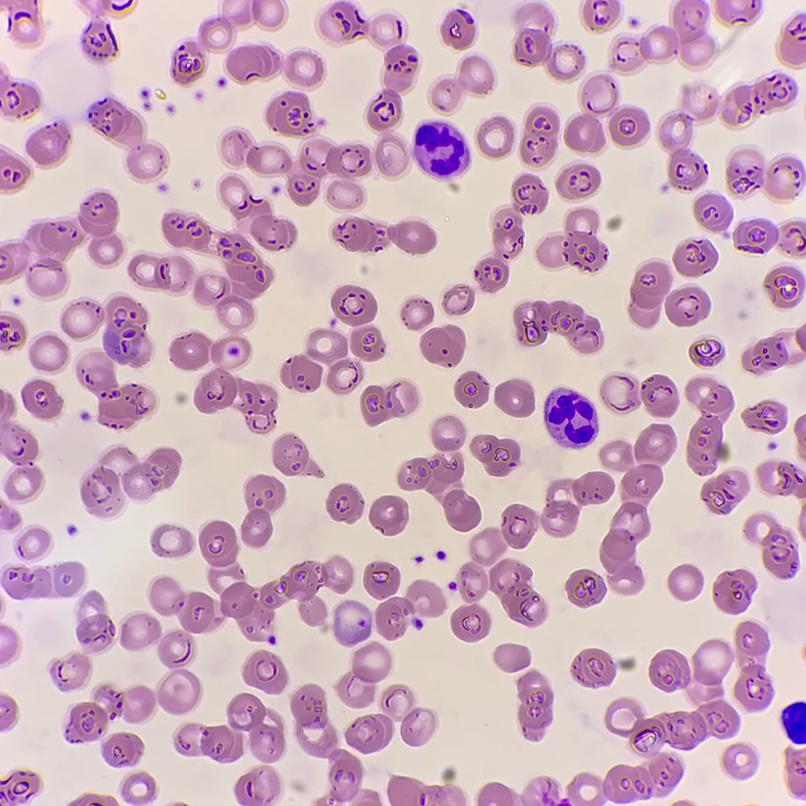RBC: (568, 639, 738, 805), (313, 1, 418, 176), (199, 521, 327, 640), (162, 212, 273, 330), (0, 190, 122, 296), (600, 424, 676, 594), (61, 296, 155, 427), (221, 130, 371, 208), (170, 332, 276, 433), (171, 0, 287, 85), (121, 576, 219, 667), (291, 684, 362, 805), (475, 174, 547, 291), (457, 505, 538, 601), (174, 693, 285, 762), (612, 0, 718, 70), (81, 447, 180, 516), (86, 97, 166, 179), (564, 74, 649, 151), (398, 453, 480, 530), (51, 592, 114, 690), (659, 84, 715, 189), (511, 2, 584, 81), (220, 176, 296, 250), (281, 329, 363, 393), (66, 684, 155, 741), (541, 472, 614, 536), (0, 392, 43, 499), (513, 301, 603, 352), (686, 378, 732, 474), (537, 208, 606, 270), (375, 580, 445, 639), (226, 45, 325, 86), (719, 74, 795, 125), (489, 559, 546, 626), (727, 149, 802, 198), (332, 218, 435, 253), (337, 643, 390, 707), (431, 56, 493, 110), (411, 122, 469, 179), (734, 621, 771, 710), (745, 514, 796, 578), (381, 685, 435, 745), (544, 388, 597, 448), (241, 475, 285, 547), (742, 326, 805, 373), (2, 562, 84, 598), (629, 262, 671, 327), (733, 219, 805, 256), (517, 671, 553, 740), (360, 382, 418, 424), (520, 106, 559, 166), (129, 255, 193, 291), (477, 777, 558, 805), (266, 91, 315, 137), (26, 117, 71, 167), (388, 776, 465, 805), (701, 471, 748, 514), (471, 435, 520, 475), (158, 669, 201, 714), (243, 650, 287, 693), (273, 434, 319, 475), (420, 325, 465, 366), (713, 570, 755, 613), (331, 285, 376, 325), (346, 714, 393, 752), (333, 600, 372, 645), (665, 287, 709, 326), (235, 766, 279, 805), (0, 75, 42, 115), (571, 649, 615, 687), (758, 462, 805, 497), (0, 0, 39, 42), (82, 18, 117, 64), (764, 266, 803, 307), (673, 239, 716, 276), (22, 380, 62, 419), (556, 164, 600, 199), (477, 117, 514, 158), (641, 375, 678, 416), (600, 374, 638, 413), (370, 496, 408, 535), (494, 379, 534, 416), (566, 569, 605, 606), (693, 194, 730, 232), (326, 484, 363, 522), (451, 605, 490, 641), (441, 10, 476, 49), (743, 400, 784, 433), (778, 15, 805, 65), (151, 525, 193, 557), (30, 335, 68, 370), (103, 733, 143, 765), (364, 562, 399, 598), (668, 564, 702, 600), (1, 771, 39, 803), (454, 371, 488, 406), (431, 416, 465, 451), (722, 743, 756, 778), (0, 150, 30, 189), (351, 326, 385, 360), (583, 0, 619, 31), (715, 0, 760, 24), (121, 772, 155, 803), (16, 528, 50, 558), (401, 298, 433, 329), (780, 701, 805, 740), (494, 644, 530, 671), (785, 749, 805, 795), (443, 285, 474, 314), (328, 557, 353, 592), (0, 316, 25, 349), (690, 339, 720, 365), (0, 501, 20, 529), (0, 694, 16, 728), (72, 794, 116, 805), (795, 416, 805, 457), (0, 640, 17, 664), (359, 789, 380, 805), (97, 0, 110, 14), (619, 658, 634, 670), (443, 768, 455, 781), (608, 217, 620, 229), (176, 394, 185, 402), (141, 91, 149, 99), (800, 523, 805, 535), (677, 801, 691, 805), (0, 625, 5, 633), (224, 0, 232, 4)
